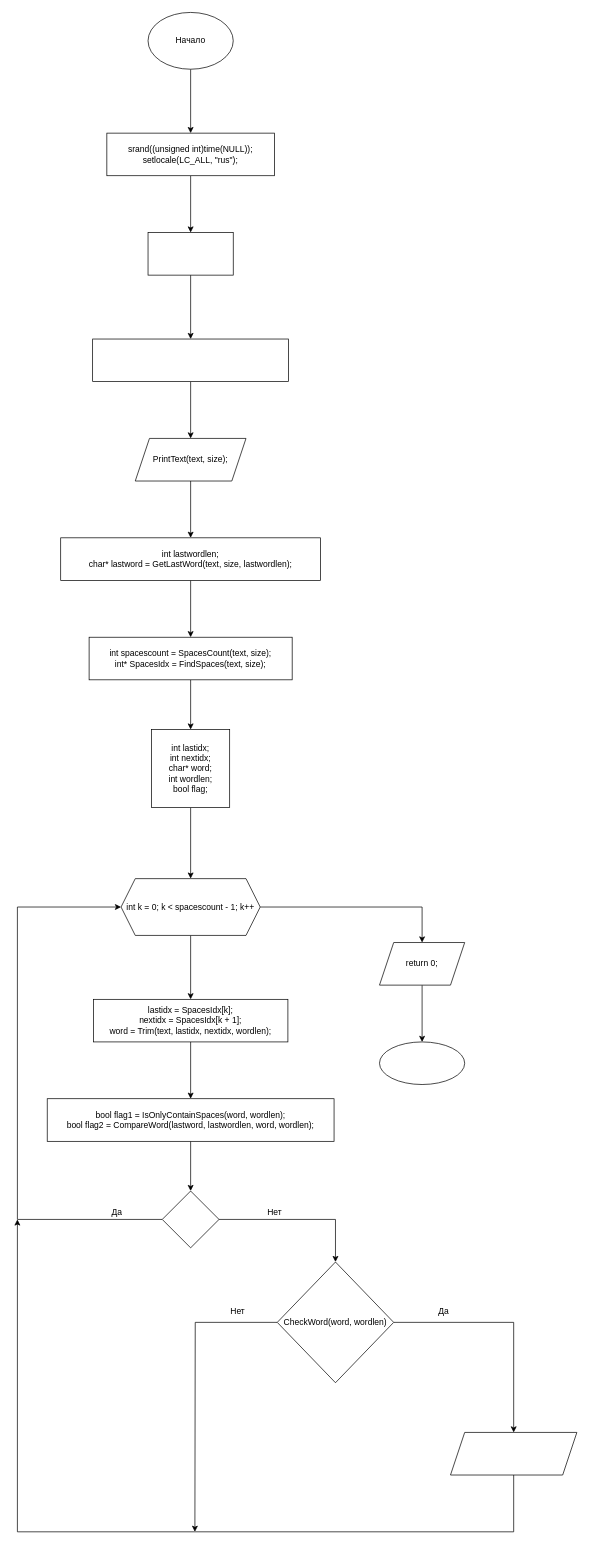
Some shapes in this 589 by 1550 pixel diagram are drawn without their labels. Here are the shapes that lost their labels. From the top down, the box of each, then its label:
(147, 232, 233, 275): int size = 80;
(92, 338, 289, 382): char *text = EnterText(size);
(379, 1041, 465, 1085): Конец
(162, 1190, 219, 1248): flag1 || flag2
(450, 1432, 577, 1475): PrintText(word, wordlen);
